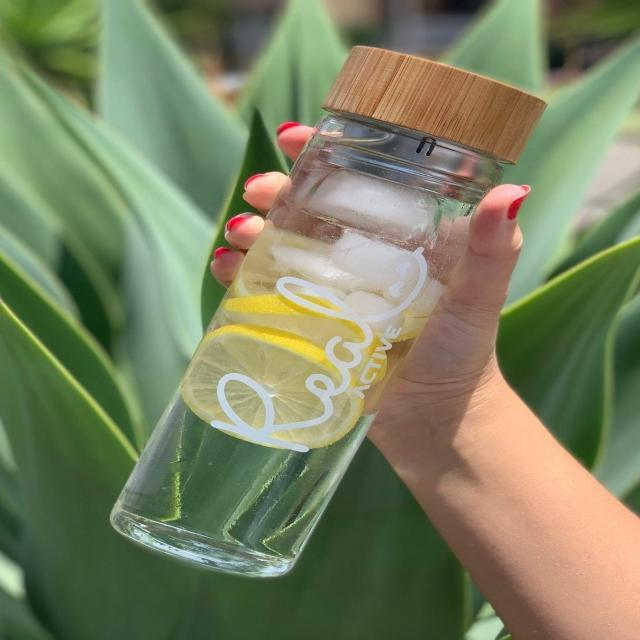gym bottle: (112, 40, 552, 578)
